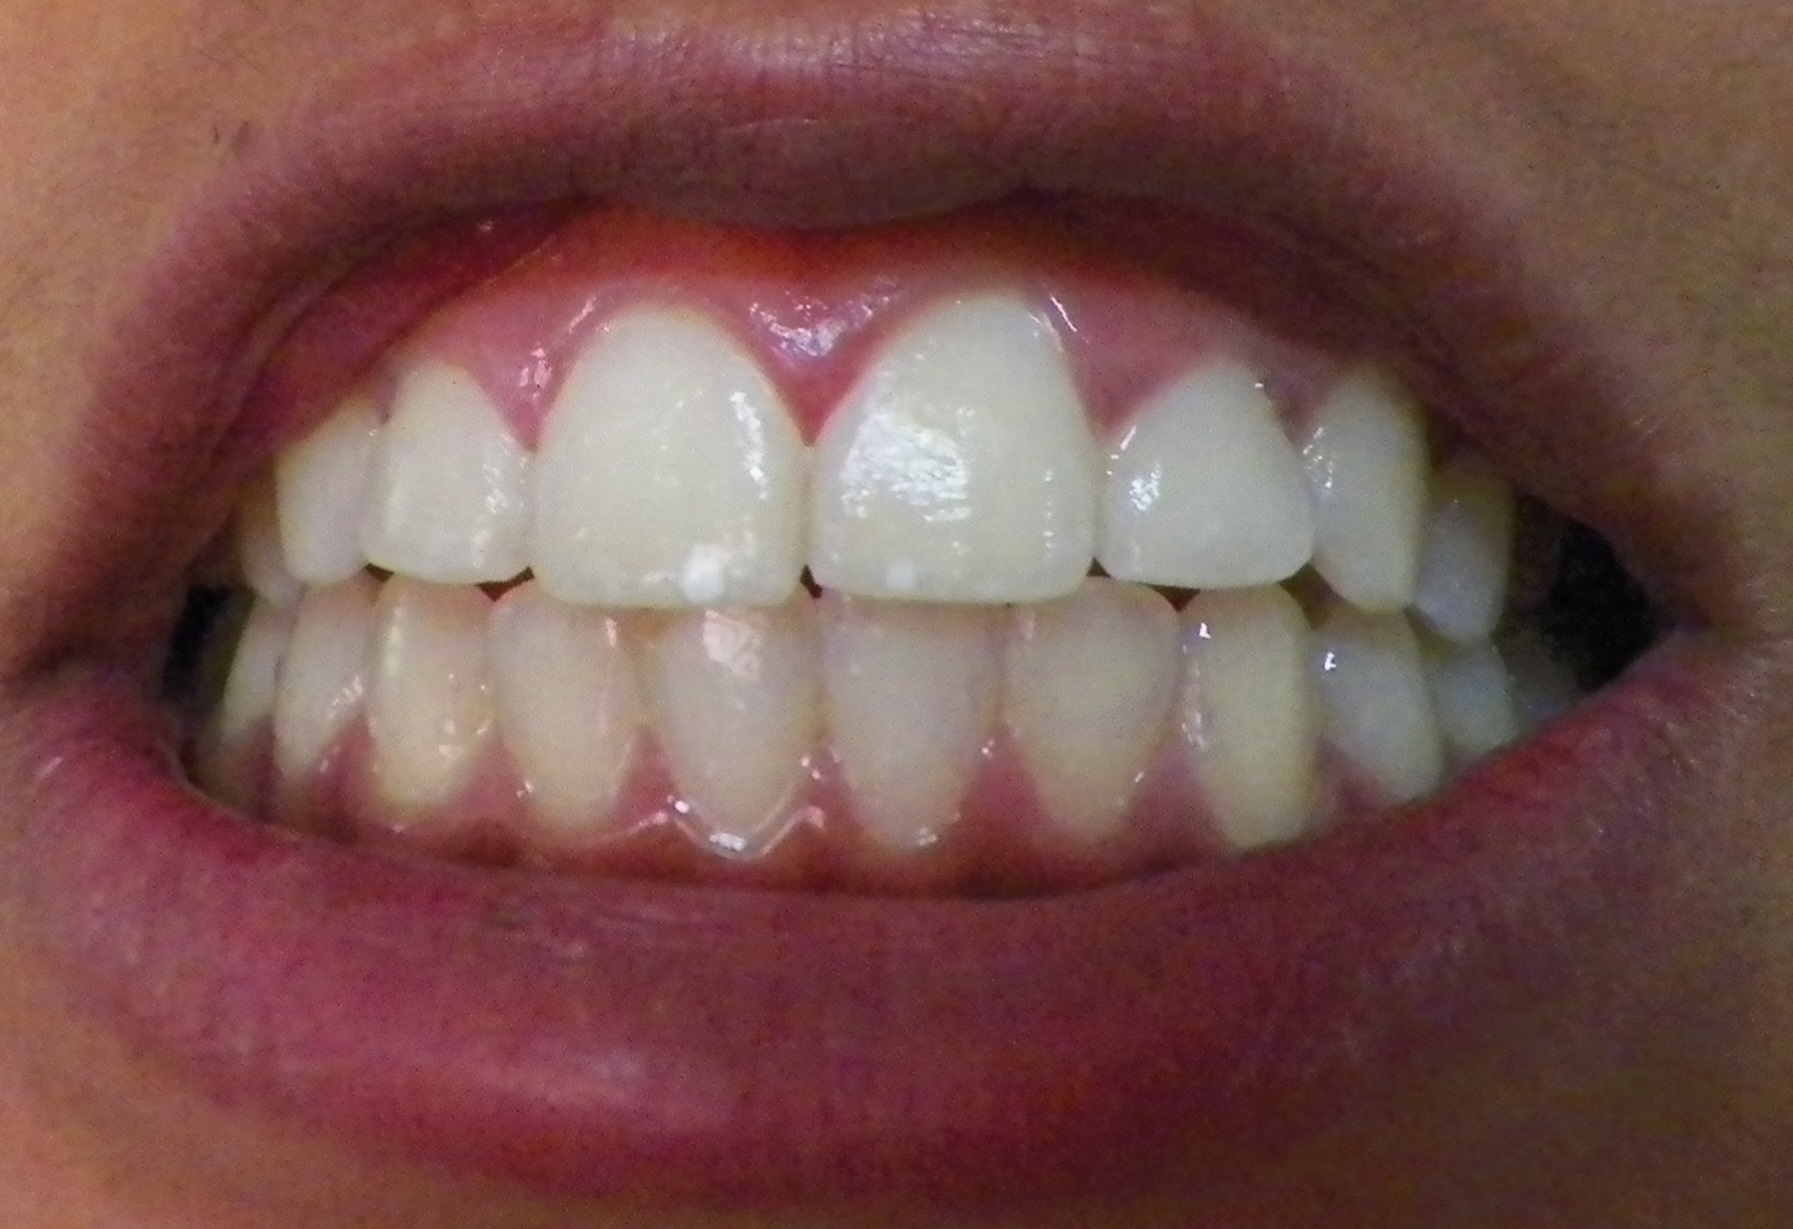boca: (183, 302, 1564, 839)
